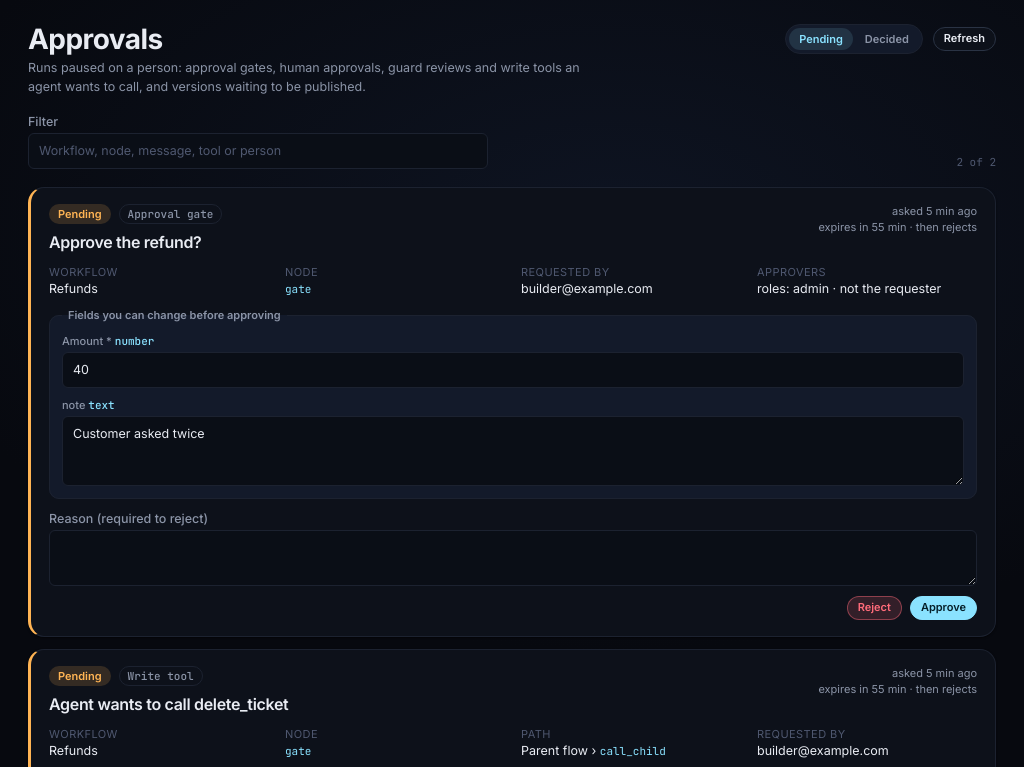
Test: ApprovalsPage › lists pending requests with their details and reports the decidable count
Check: the heading "Approve the refund?" is shown, box [49,232,202,252]
Check: the text "Parent flow › call_child" is shown, box [521,743,666,758]
In the search field labelled "Filter": (258, 151) [28,133,488,169], type "delete"
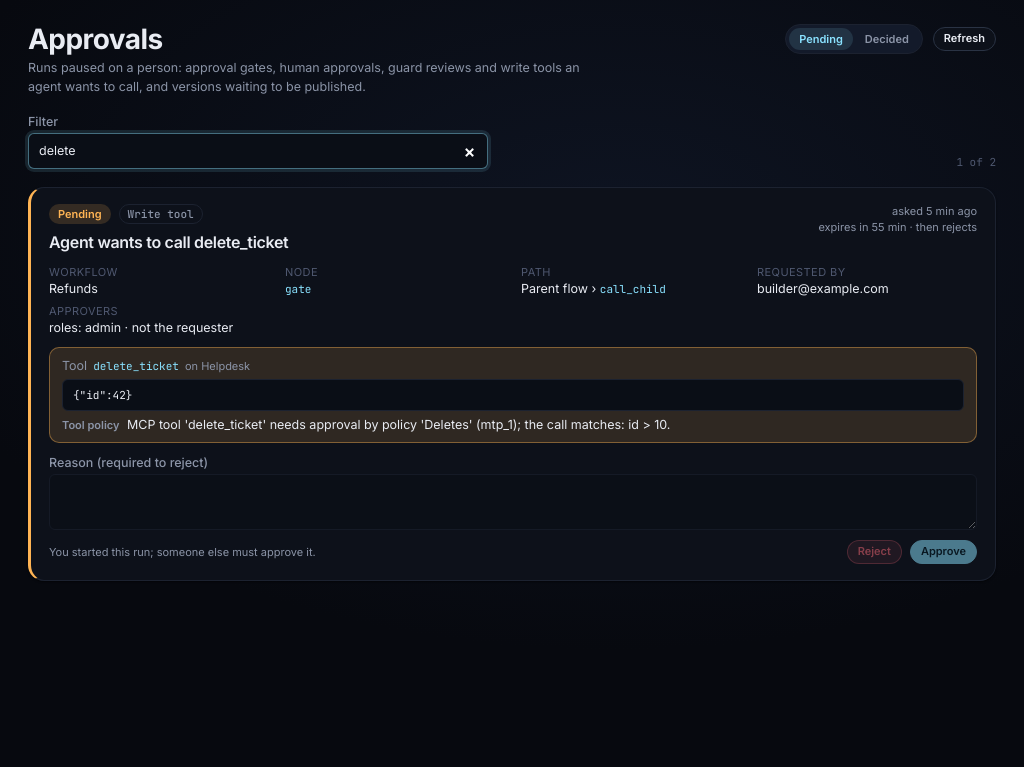
Check: the heading "Approve the refund?" is gone
